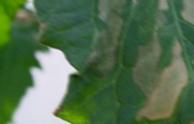Tomato leaf bacterial spot: (25, 0, 194, 124)
